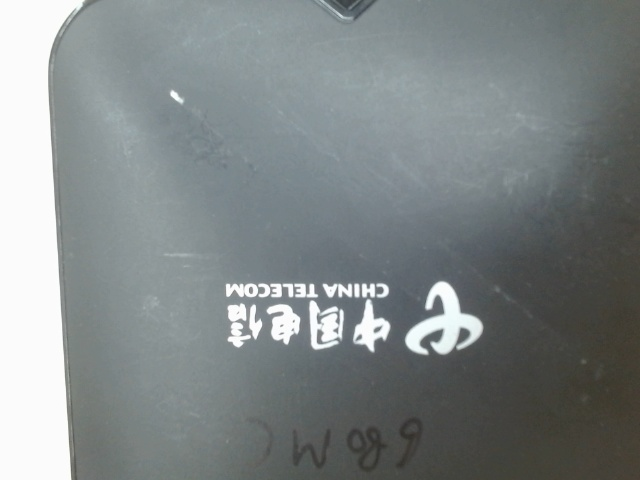AB_ChinaTelecom: (211, 253, 495, 362)
